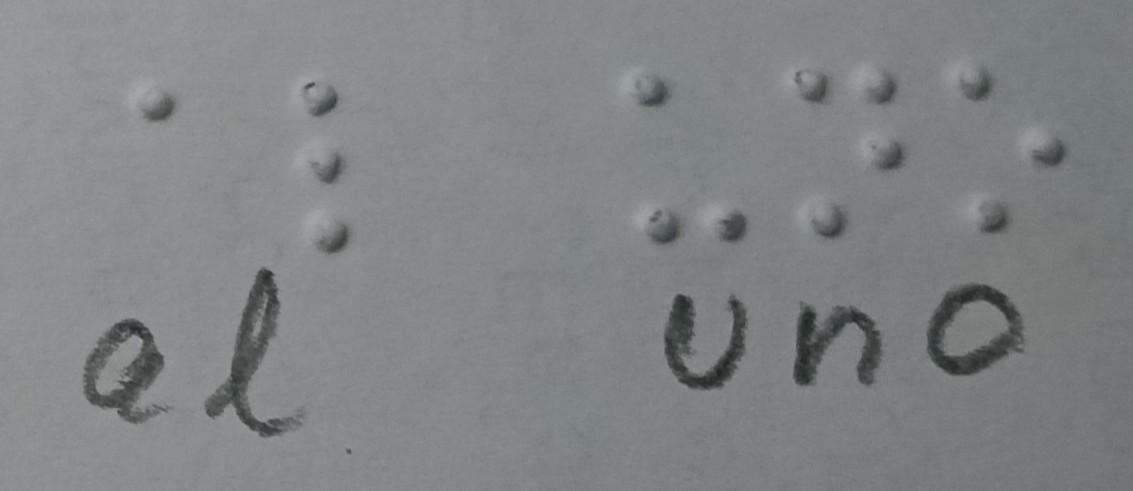a: (111, 63, 226, 181)
l: (279, 59, 391, 267)
n: (764, 44, 927, 250)
o: (926, 46, 1081, 241)
u: (616, 61, 751, 251)
